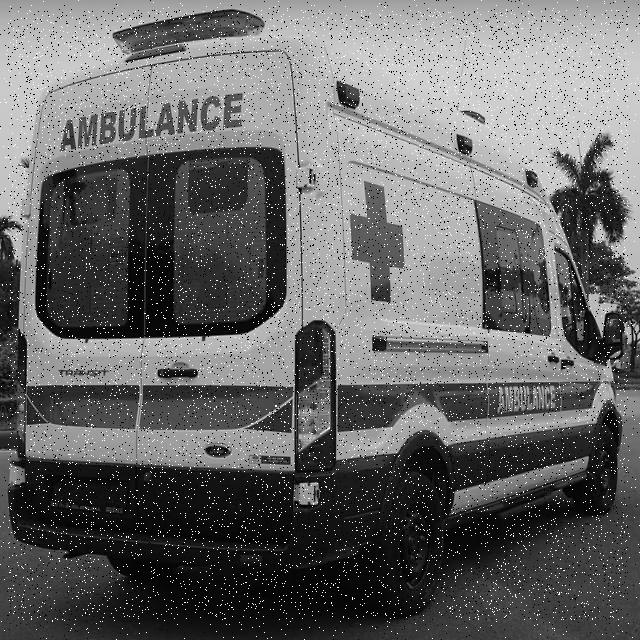Ambulance: (8, 10, 628, 620)
